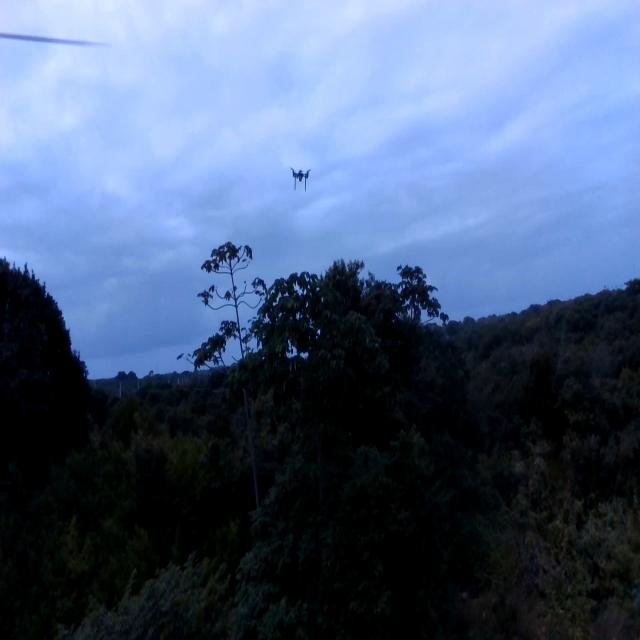-uav-: (289, 159, 313, 197)
